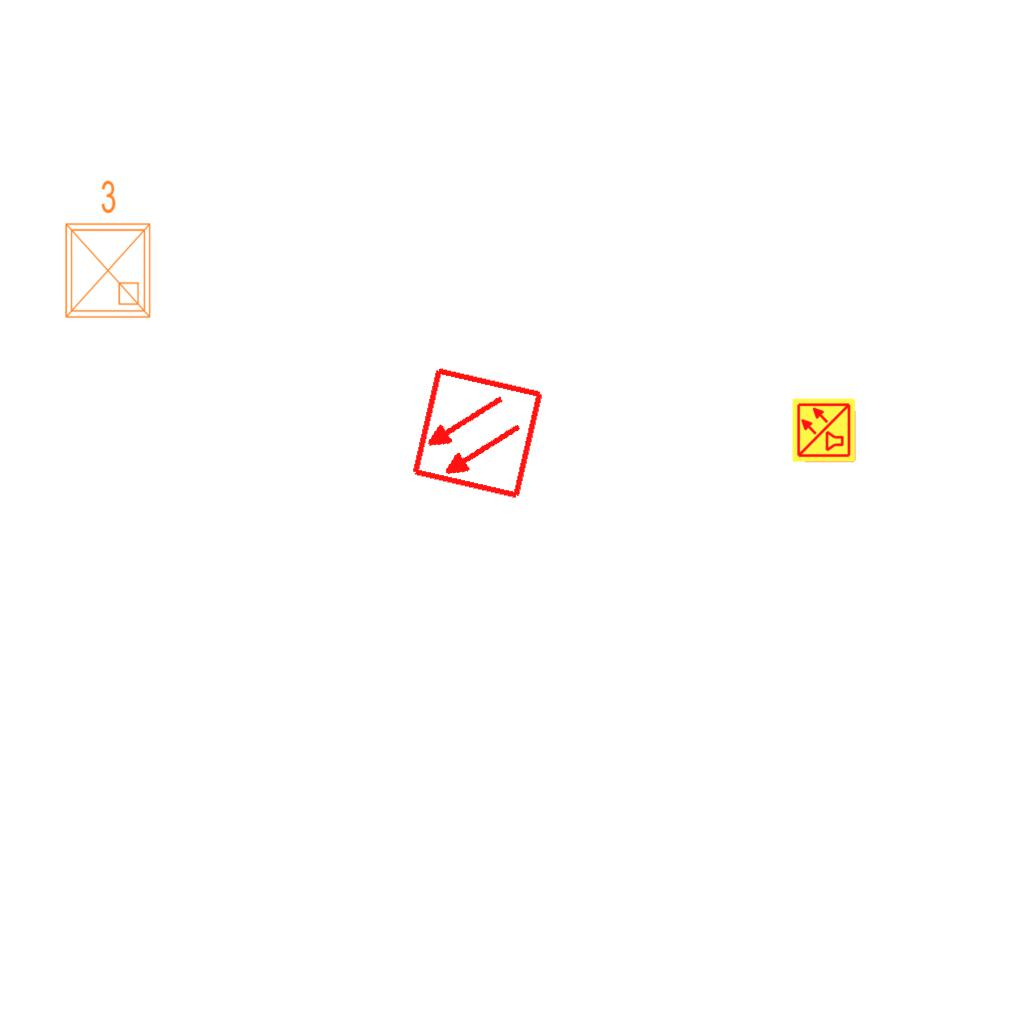Einbaudownlights_LED_Konferenzraeume: (54, 175, 158, 325)
OKW_Multisensormelder_(Kombination_optischer_Rauch-Kahlenmonoxid_Waerme-Melder): (791, 397, 857, 463)
RMO_Rauchmelder_optischer: (409, 365, 546, 502)
